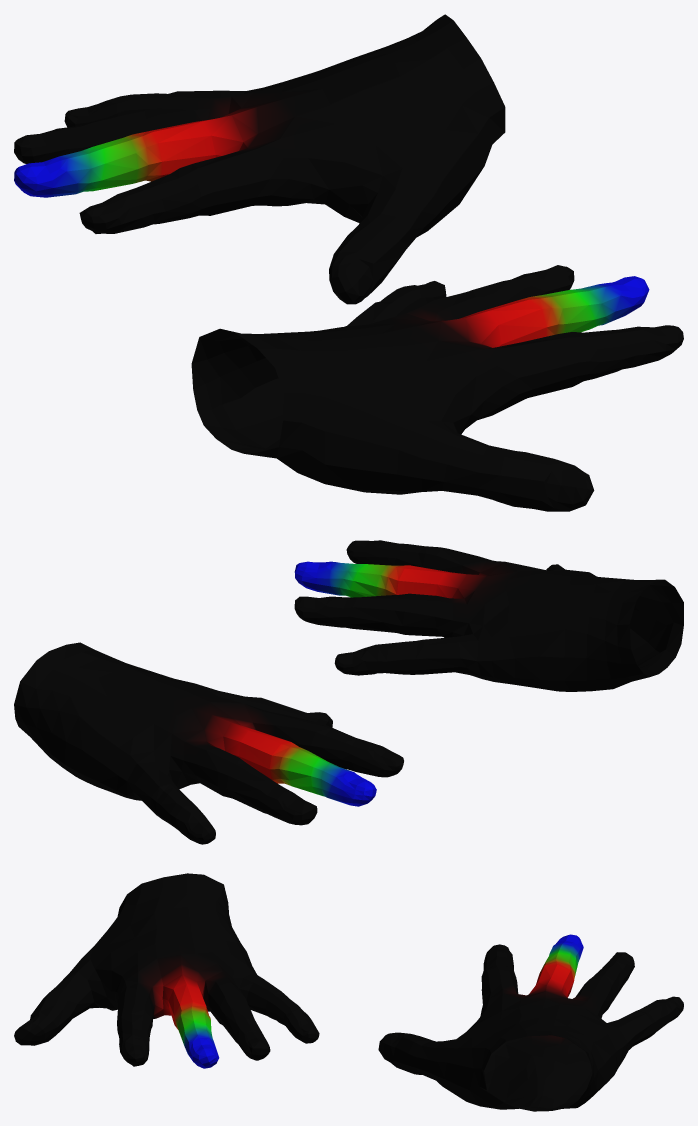
The model's file is vertices.obj.
The picture shows the model from 3 angles, top to bottom: view 1: azimuth 30°, elevation 25°; view 2: azimuth 150°, elevation 25°; view 3: azimuth 270°, elevation 25°; orthographic projection. The views are drawn at different scales.
Bounding box in the file's own units: 0.2281 × 0.0613 × 0.3677.
